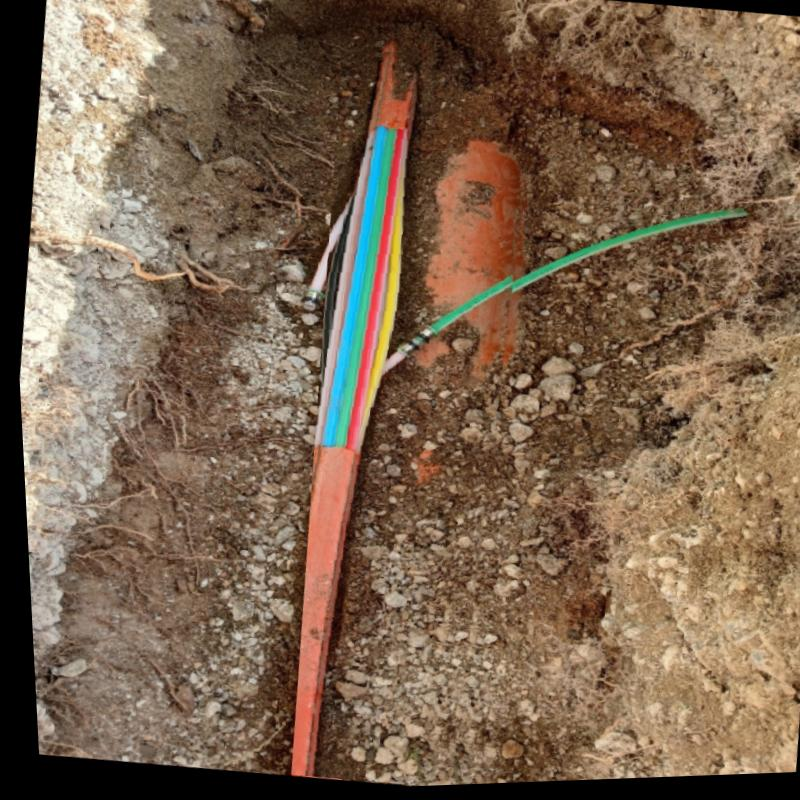Orang-Speednetrohrchen: (282, 53, 527, 778)
